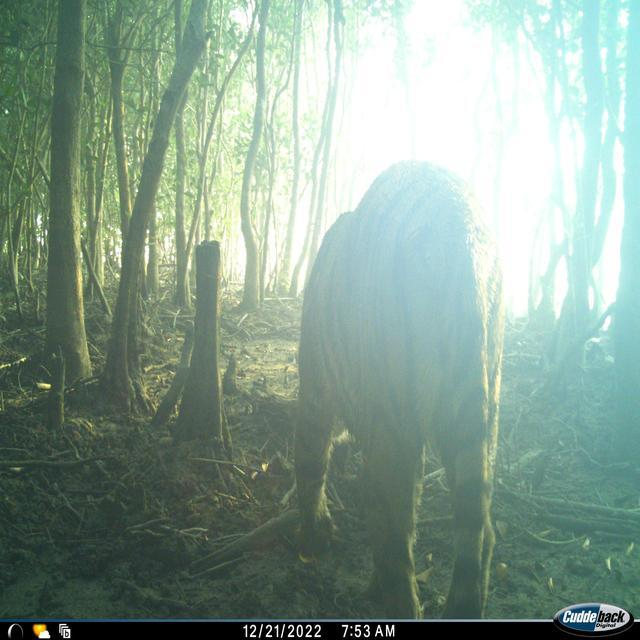tiger: (290, 157, 506, 619)
